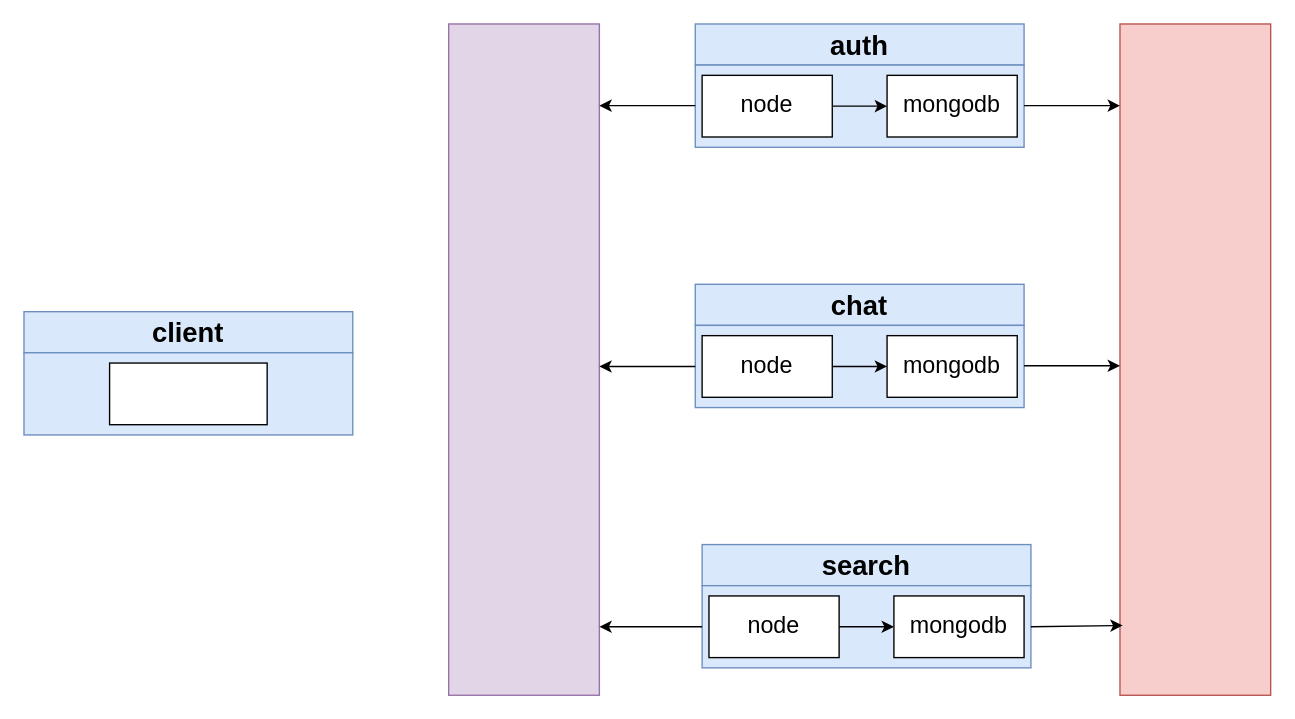
Image size: 1295x719. Some labels were removed from this diagram. Here are the shapes that lost their labels. From the top down, the centre of each, then its label:
At (523,359): "common".
At (1195,359): "NATS Streaming Server".
At (187,393): "Next.JS".
